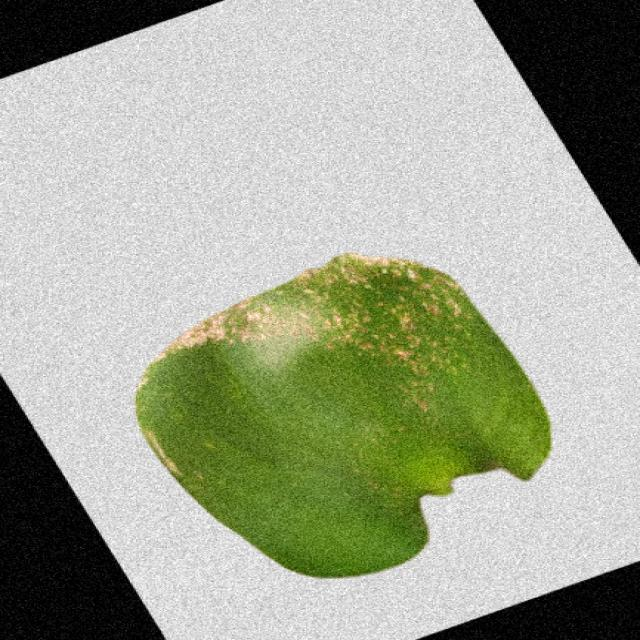daun berpenyakit bercak: (137, 254, 550, 577)
